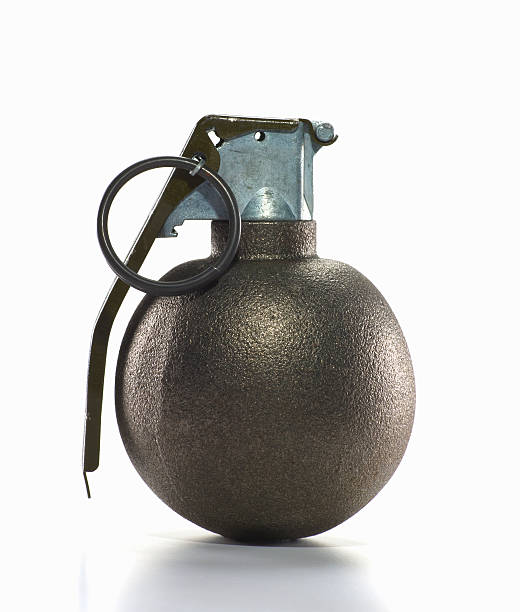e1: (82, 114, 415, 542)
